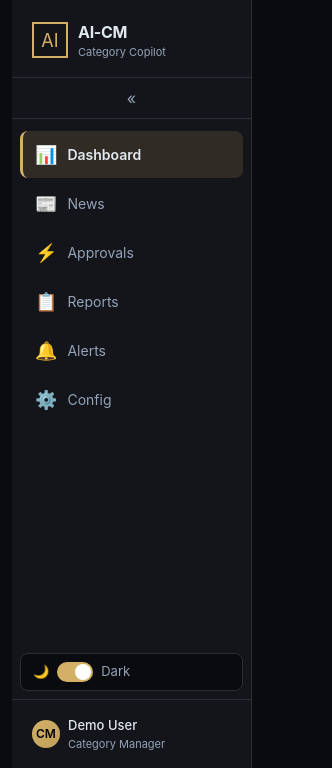
Scenario: Sidebar › collapses sidebar when collapse button is clicked
The image size is (332, 768).
Click the button titled "Collapse" at (132, 98), box [12, 78, 251, 118]
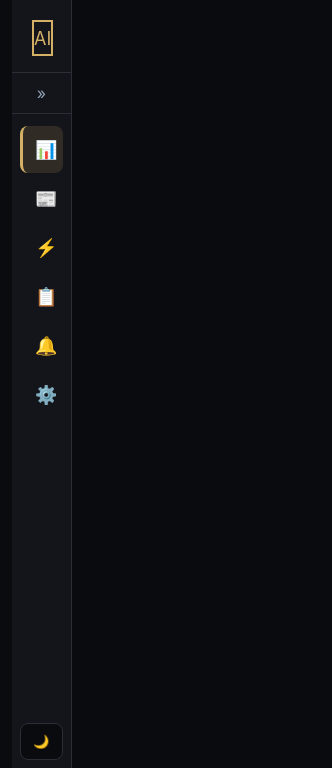
Expected: the button titled "Expand" is shown, [12, 73, 71, 114]
Expected: the link "Dashboard" is gone
